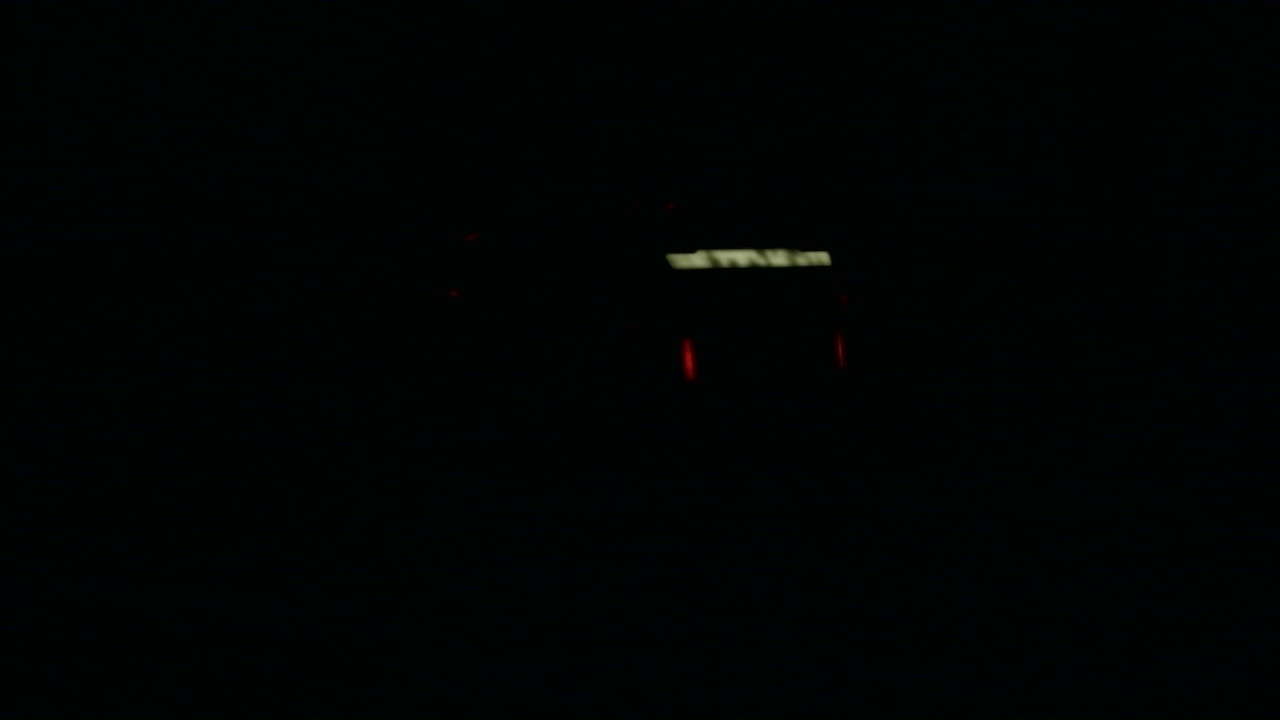lamp: (686, 340, 695, 377)
pair2: (681, 337, 846, 378)
